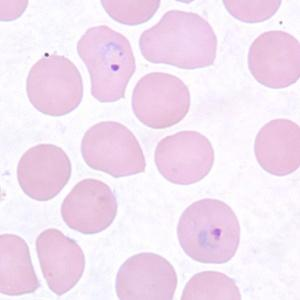Infected: (77, 24, 137, 101), (176, 198, 239, 263)
Uninfected: (139, 10, 219, 70), (81, 121, 146, 178), (25, 54, 82, 116), (34, 228, 84, 295), (131, 73, 190, 129), (16, 143, 71, 201), (61, 178, 116, 234), (155, 132, 213, 185), (249, 31, 300, 88), (115, 252, 176, 299), (254, 118, 300, 177), (0, 232, 38, 295)
